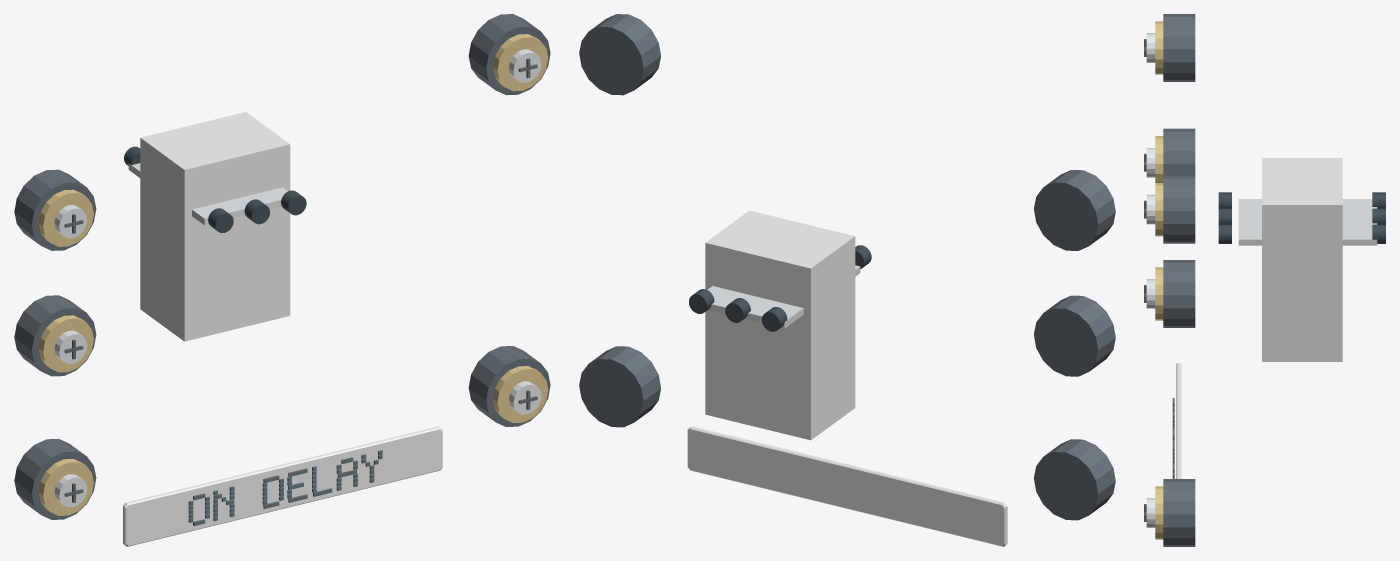
File: timer.glb
3 renders of one model, left to right at view 1: azimuth 30°, elevation 25°; view 2: azimuth 150°, elevation 25°; view 3: azimuth 270°, elevation 25°, orthographic. The views are drawn at different scales.
Visible parts, largest first — view 1: timer-preview; view 2: timer-preview; view 3: timer-preview.
Boxes of the visible parts, <box> form: timer-preview: <box>14,14,550,546</box>; timer-preview: <box>579,14,1115,546</box>; timer-preview: <box>1144,14,1385,546</box>.
Bounding box in the file's own units: 2.52 × 2.01 × 1.11.
